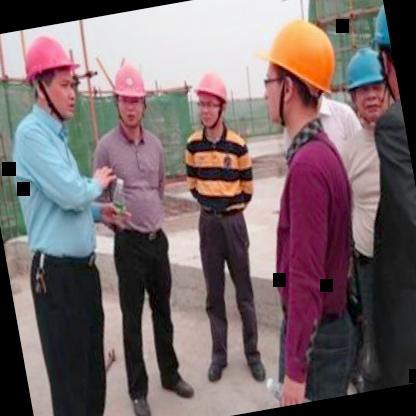helmet: (246, 9, 350, 138), (15, 29, 85, 122), (336, 45, 402, 141), (102, 52, 158, 136), (365, 0, 401, 109), (190, 63, 234, 131)
